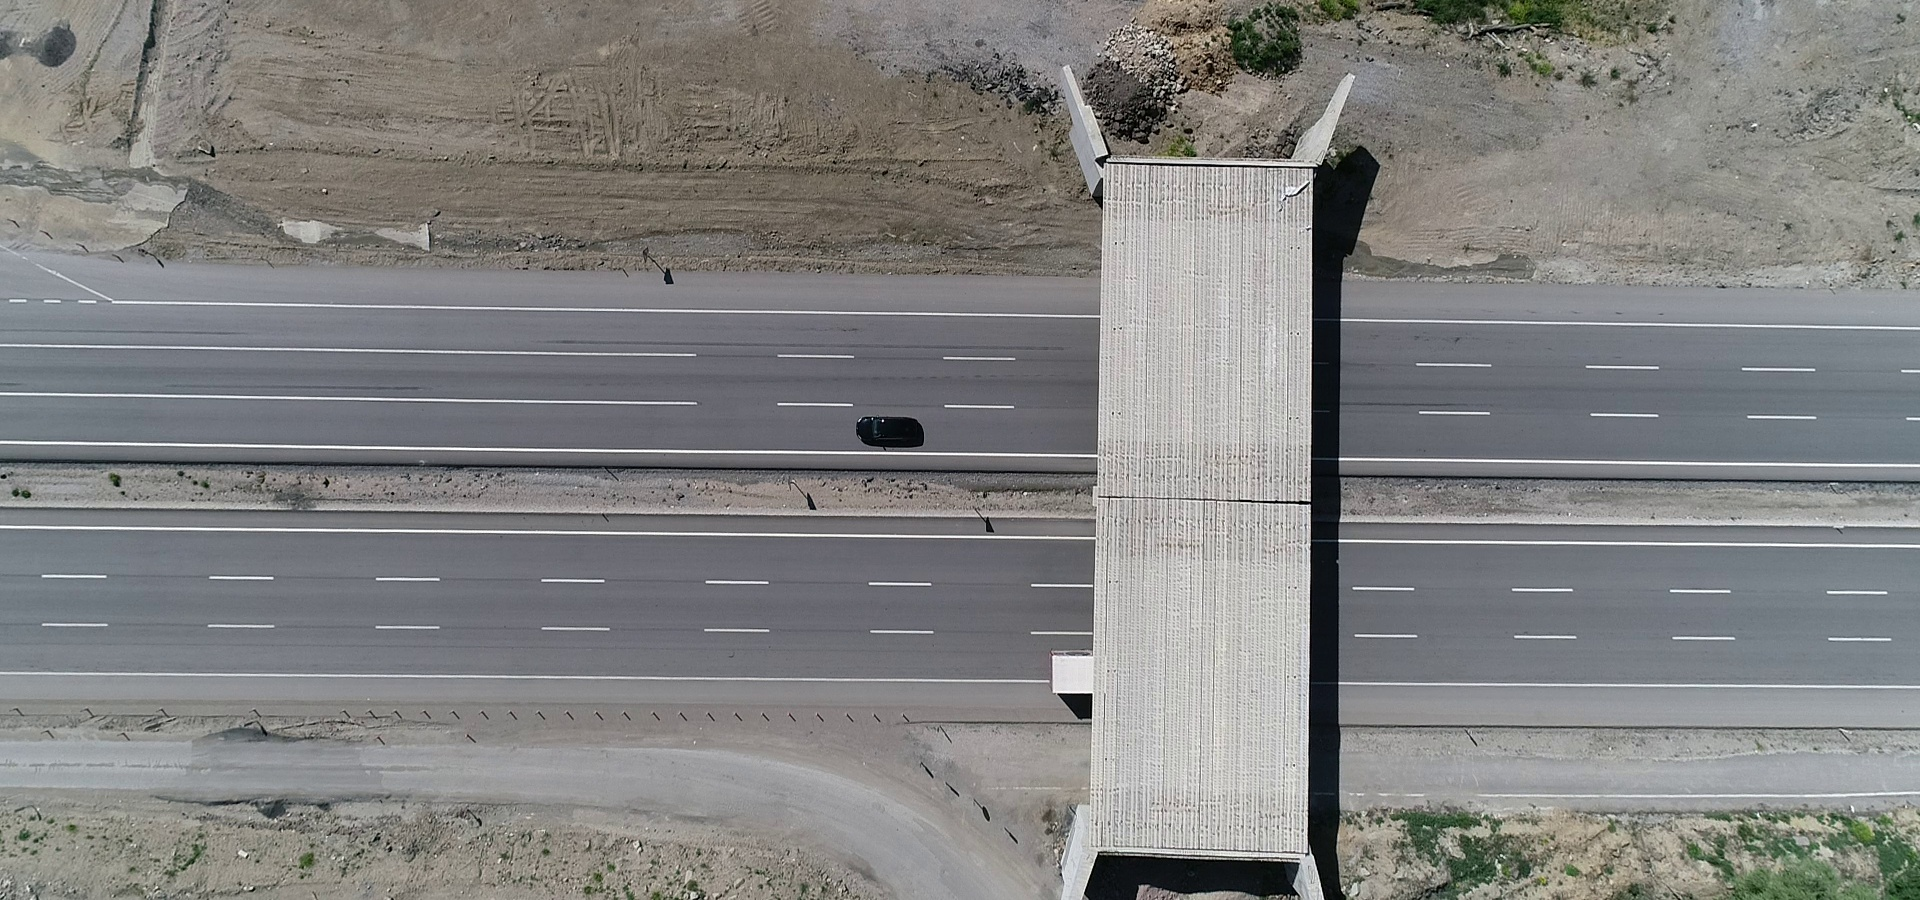arac: (855, 404, 928, 447), (1041, 644, 1096, 700)
